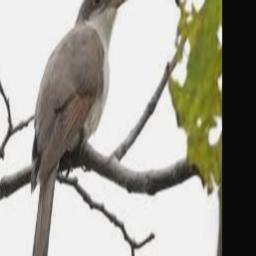Cuckoo: (28, 0, 133, 256)
